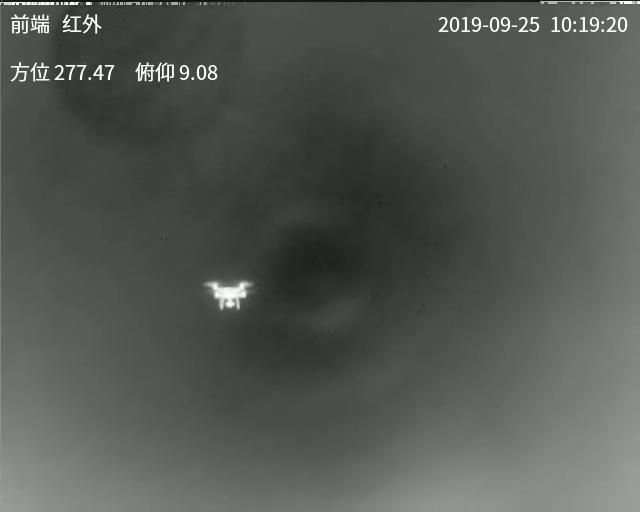uav: (199, 274, 258, 312)
